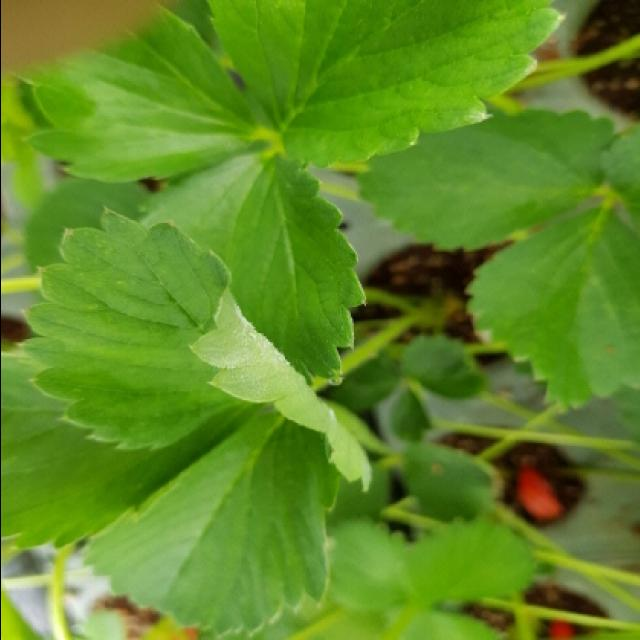Powdery Mildew Leaf: (15, 205, 372, 494)
